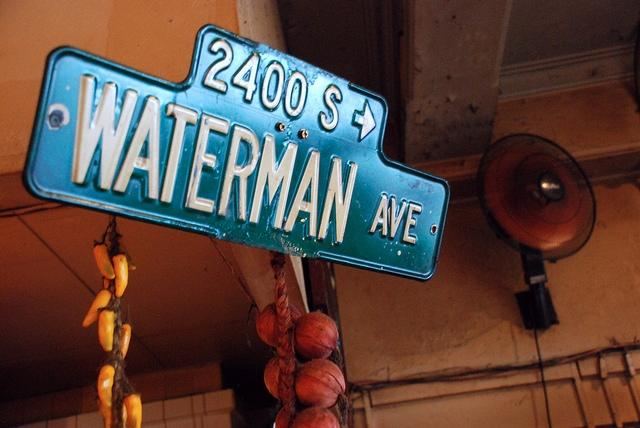onion: (296, 358, 348, 428), (294, 312, 338, 361), (256, 302, 302, 347), (290, 408, 340, 428), (264, 356, 281, 400), (276, 406, 288, 428)
